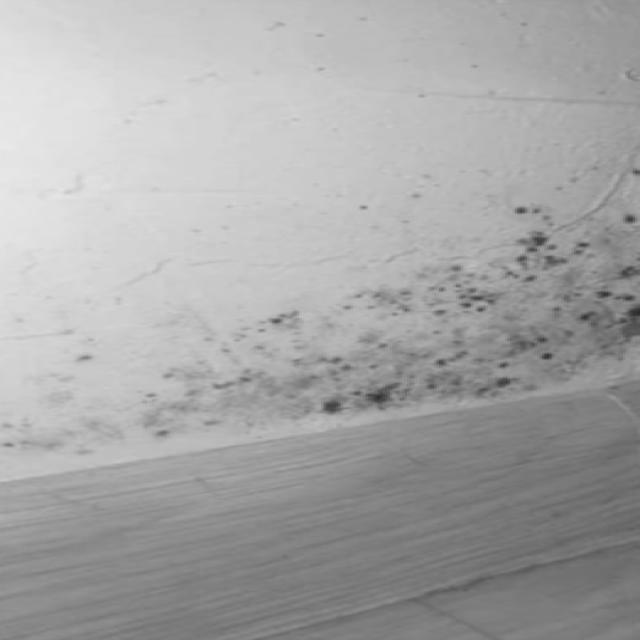stain marks: (139, 0, 640, 455), (0, 85, 138, 472)
